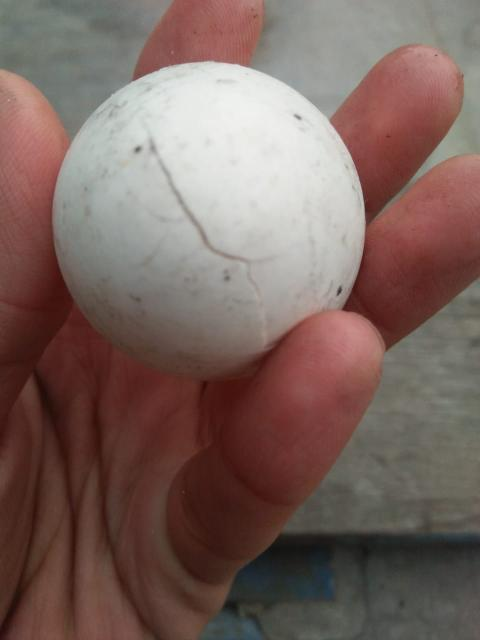Roto: (50, 59, 367, 382)
